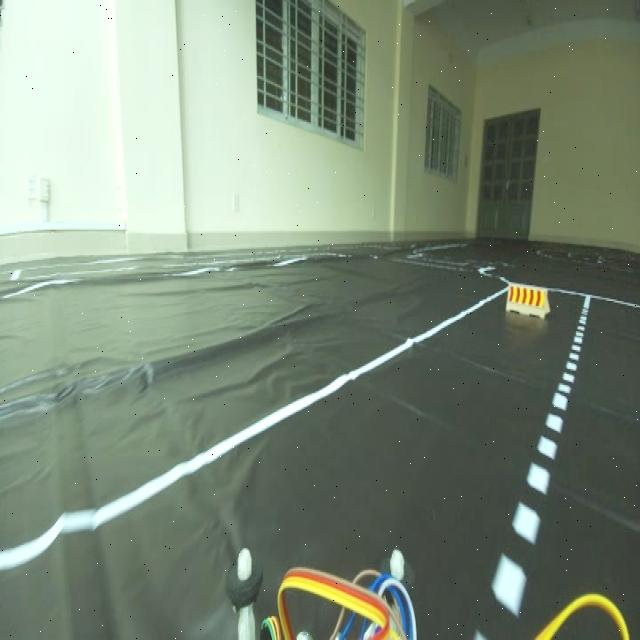roadblock: (500, 274, 554, 322)
